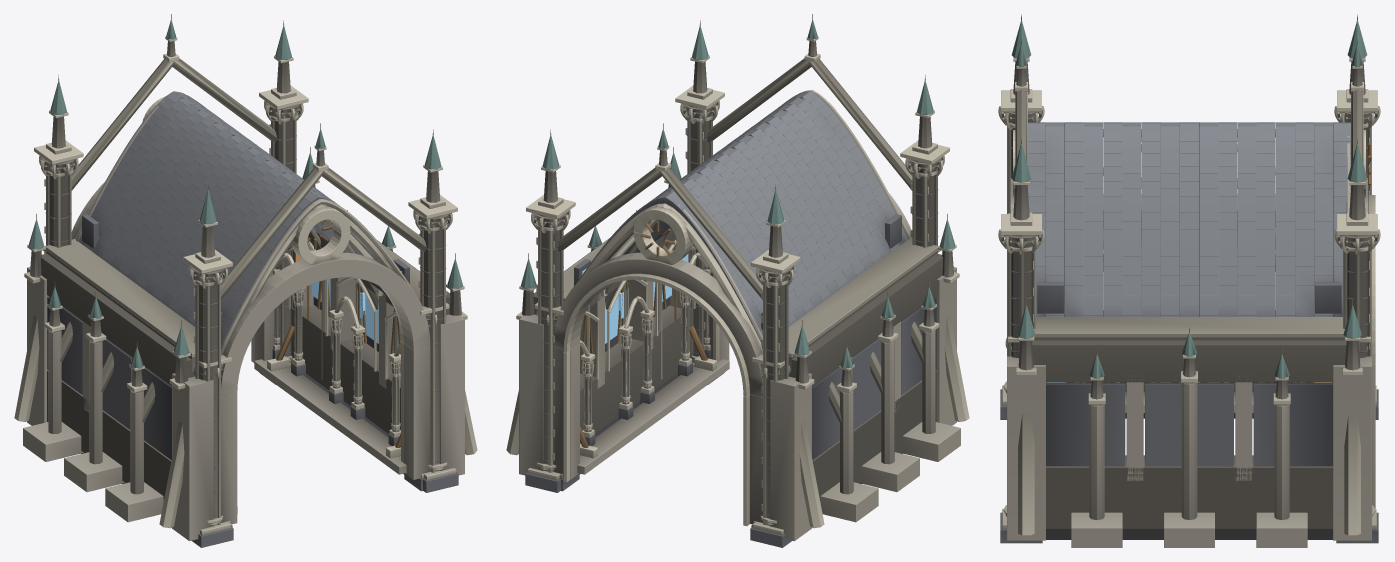
File: chapel.glb
The picture shows the model from 3 angles, left to right: view 1: azimuth 30°, elevation 25°; view 2: azimuth 150°, elevation 25°; view 3: azimuth 270°, elevation 25°; orthographic projection. The views are drawn at different scales.
Parts seen in each view (by area): view 1: chapel__limestone, chapel__pale, chapel__slate, chapel__shadow, chapel__copper, chapel__bronze, chapel__rose_blue; view 2: chapel__limestone, chapel__pale, chapel__slate, chapel__shadow, chapel__copper, chapel__bronze, chapel__rose_blue; view 3: chapel__slate, chapel__limestone, chapel__pale, chapel__shadow, chapel__copper.
Part boxes in pixels (x1,y1,x2,y2): chapel__limestone: (23, 41, 464, 541); chapel__pale: (14, 36, 477, 535); chapel__slate: (76, 91, 375, 345); chapel__shadow: (45, 135, 458, 547); chapel__copper: (28, 20, 462, 368); chapel__bronze: (36, 14, 455, 447); chapel__rose_blue: (312, 271, 401, 343); chapel__limestone: (519, 41, 960, 541); chapel__pale: (506, 36, 969, 535); chapel__slate: (578, 91, 907, 341); chapel__shadow: (525, 135, 938, 547); chapel__copper: (521, 20, 955, 368); chapel__bronze: (528, 14, 947, 447); chapel__rose_blue: (582, 254, 688, 343); chapel__slate: (1028, 122, 1350, 316); chapel__limestone: (1001, 61, 1377, 547); chapel__pale: (998, 57, 1380, 535); chapel__shadow: (1000, 147, 1378, 543); chapel__copper: (1011, 20, 1367, 378).
Bounding box in the file's own units: 178 × 197 × 157.
